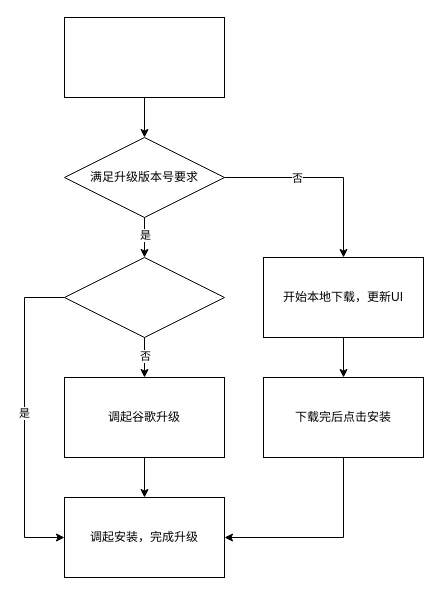
Some shapes in this 441 by 595 pixel diagram are drawn without their labels. The centre of each missing label's shape, as x and y in pixels:
"检查是否有未完成的升级" belongs at (144,297).
"检查谷歌升级版本号" belongs at (144,57).
